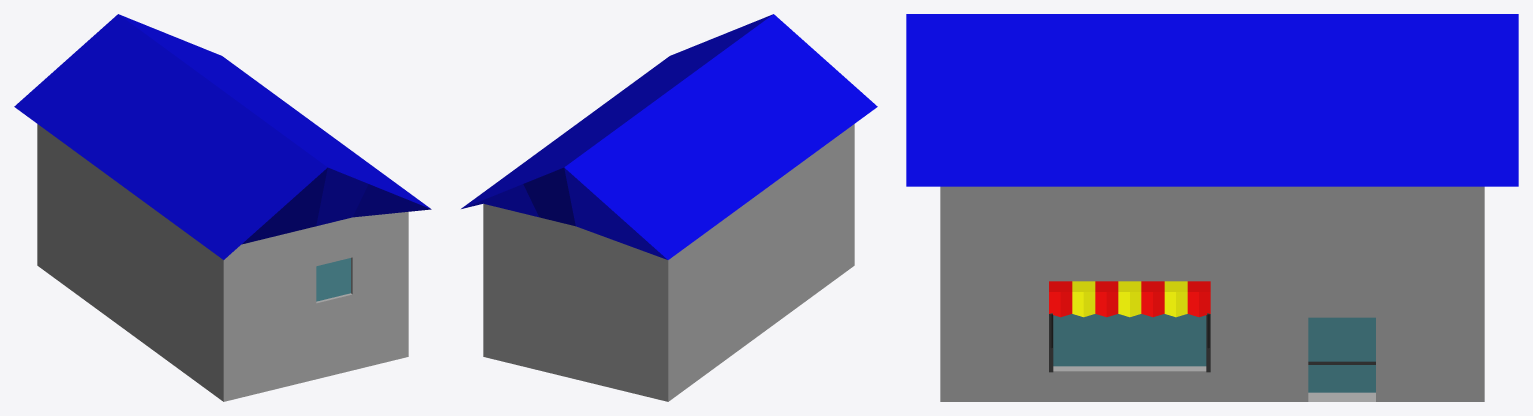
Rendered from house_3.fbx.
3 views of the same model, side by side, from view 1: azimuth 30°, elevation 25°; view 2: azimuth 150°, elevation 25°; view 3: azimuth 270°, elevation 25° (orthographic). The views are drawn at different scales.
Parts seen in each view (by area): view 1: Building4; view 2: Building4; view 3: Building4.
Part boxes in pixels (box(x1,y1,x2,y2)): Building4: box(14, 14, 431, 401); Building4: box(461, 14, 877, 401); Building4: box(906, 14, 1518, 401).
Bounding box in the file's own units: 487 × 447 × 770.
